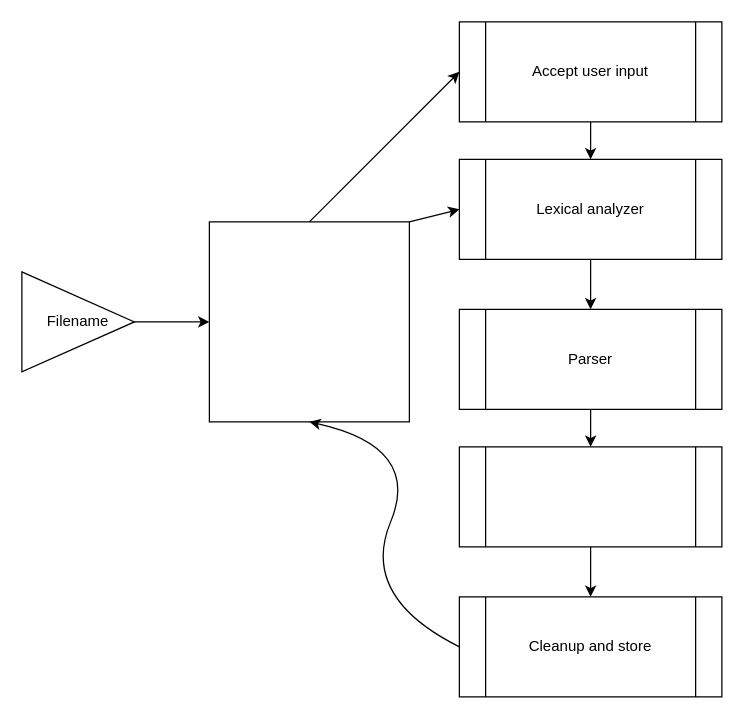
Some shapes in this 744 by 719 pixel diagram are drawn without their labels. The shapes that lost their labels are listed below. From the top down, each one's centre as x and y in pixels, then its label:
At [308,321]: "Main If filename passed goto lexical analyzer else goto User Input".
At [590,496]: "Execute".
